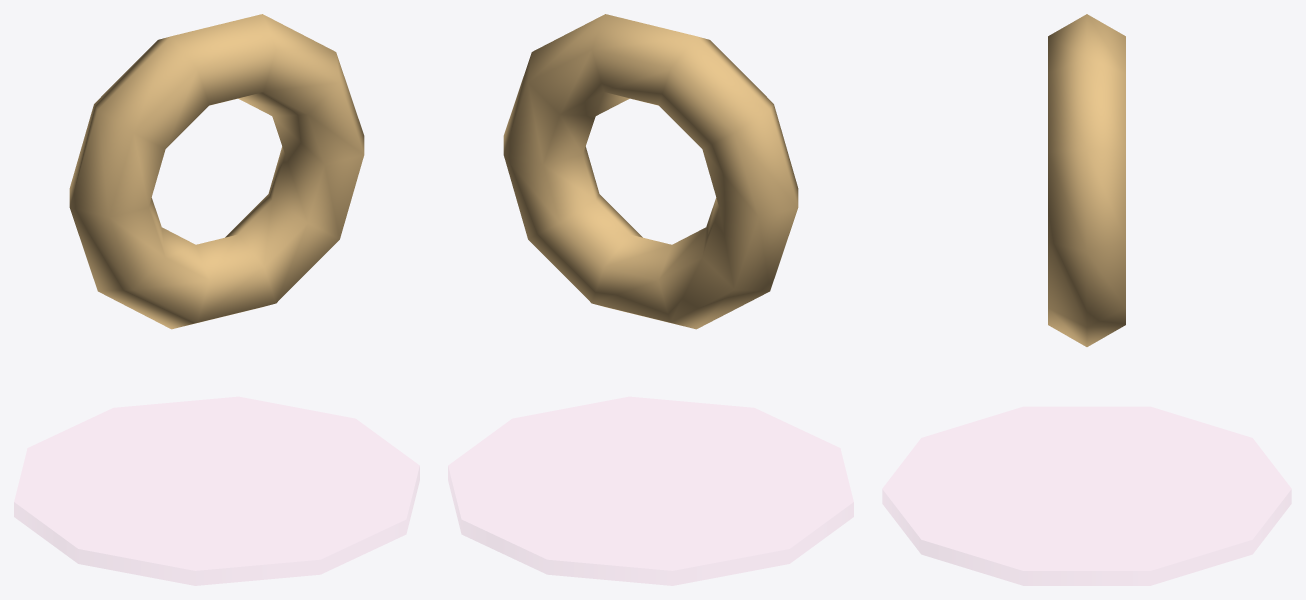
Rendered from simit.glb.
3 renders of one model, left to right at view 1: azimuth 30°, elevation 25°; view 2: azimuth 150°, elevation 25°; view 3: azimuth 270°, elevation 25°, orthographic.
Bounding box in the file's own units: 0.9511 × 1.26 × 1.
